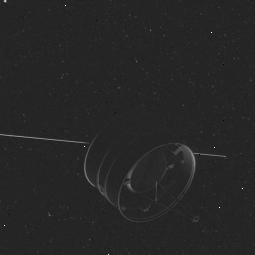double_start: (70, 101, 200, 224)
